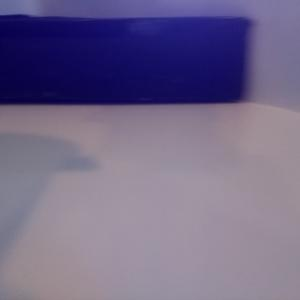zone: (1, 16, 250, 104)
